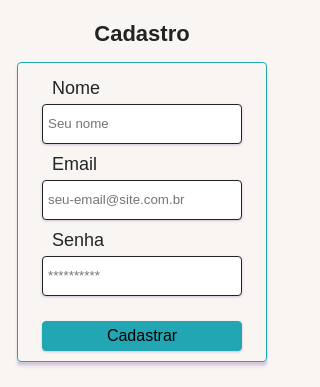
Register Page › Test sign up fails › should show error message when user email is already register
The width and height of the screenshot is (320, 387).
In the field labelled "Nome": (142, 124) [42,104,242,144], type "Test user mock"
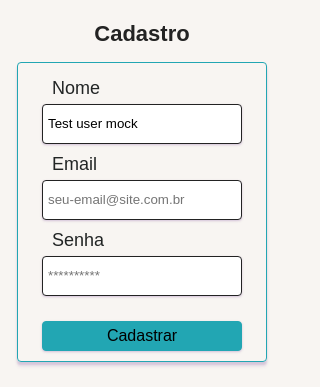
In the field labelled "Email": (142, 200) [42,180,242,220], type "test@test.com"
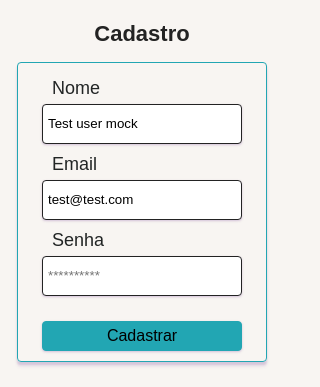
In the password field labelled "Senha": (142, 276) [42,256,242,296], type "test123456789"
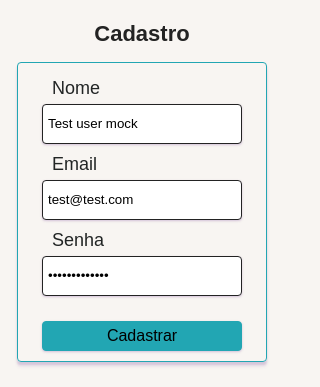
Click the button "Cadastrar": (142, 336) [42,320,242,350]
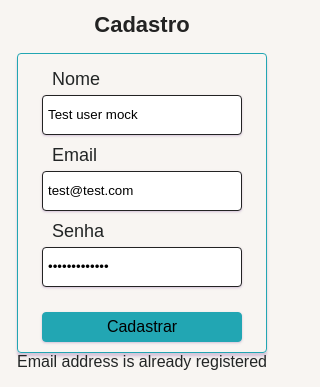
Expected: the text "Email address is already registered" is shown, [17,352,267,370]
